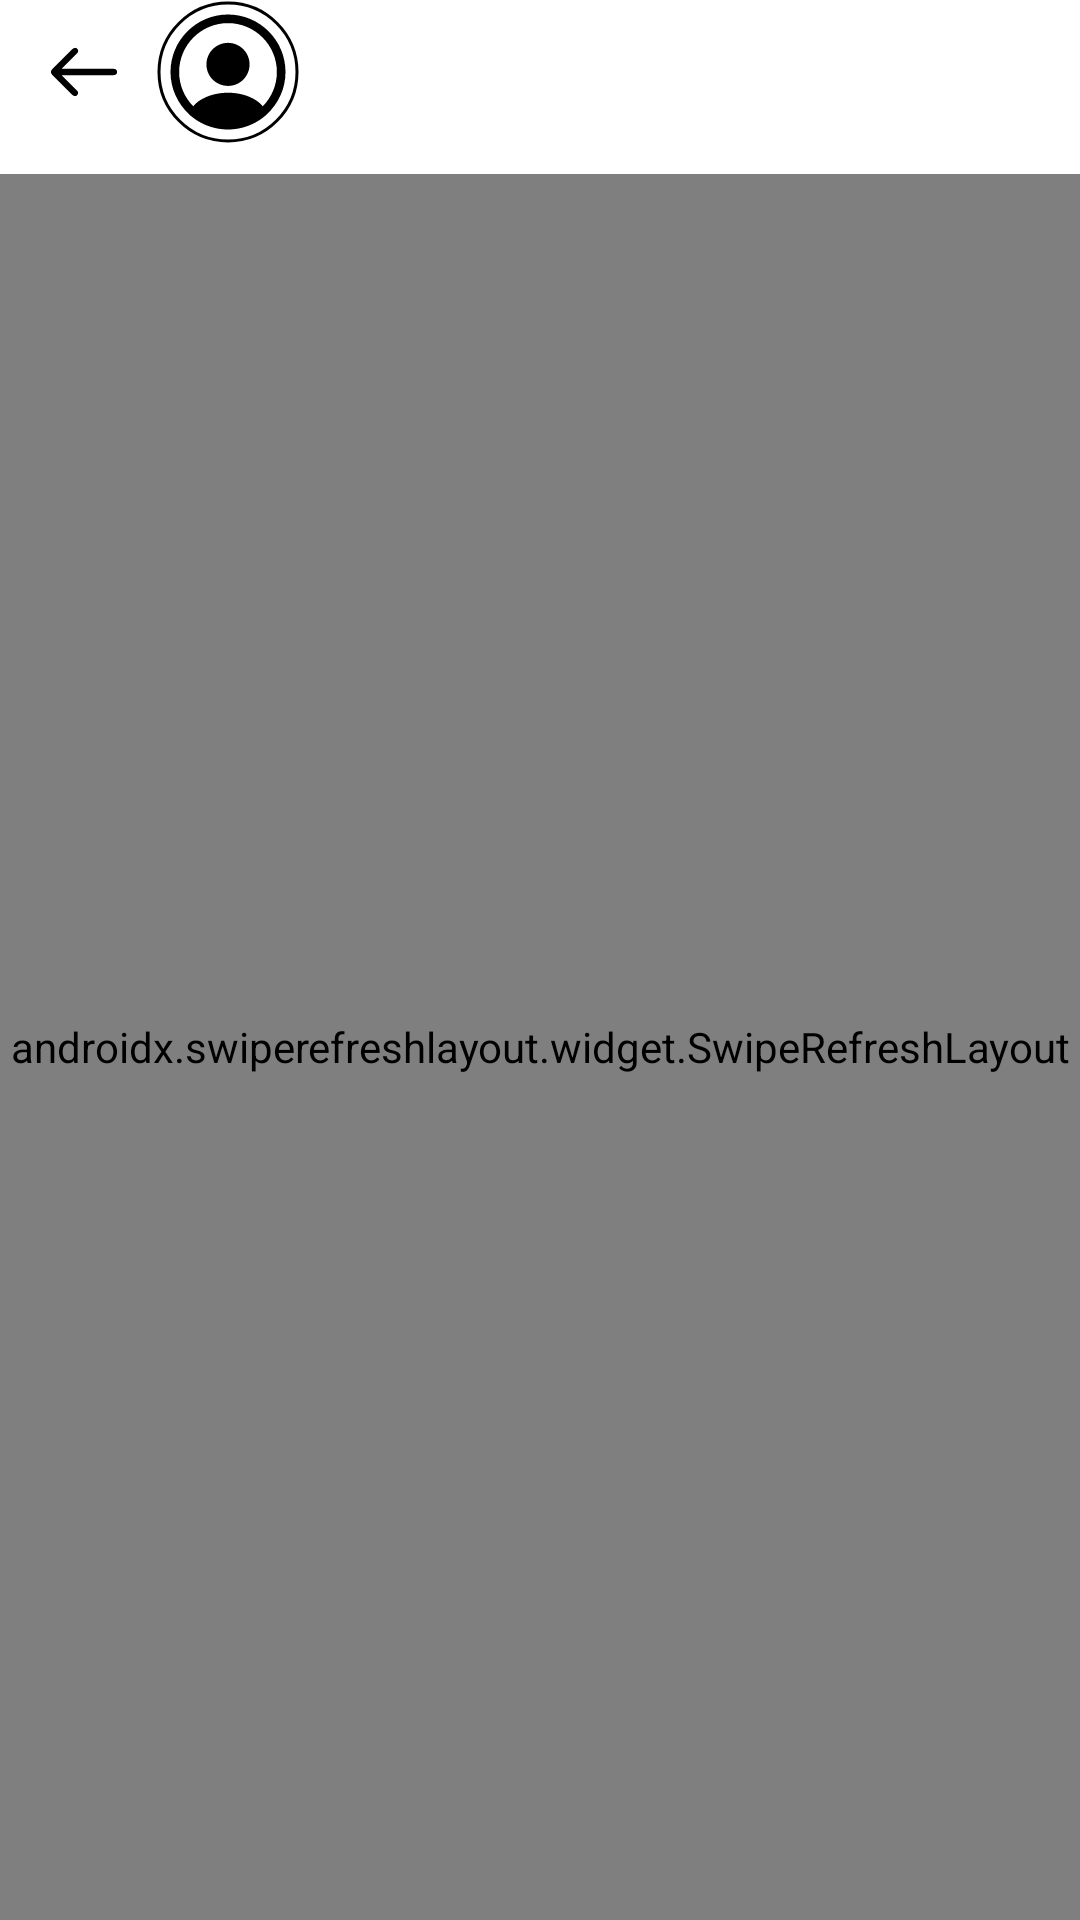

Where to tap for icons on this 1080px x 1920px app screen, as point (x, y):
Back: point (84, 72)
profile: point (228, 72)
